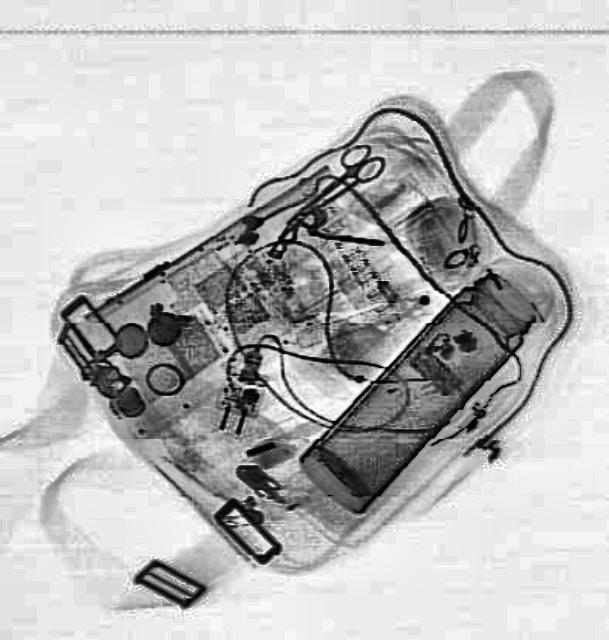Scissors: (276, 136, 387, 230)
